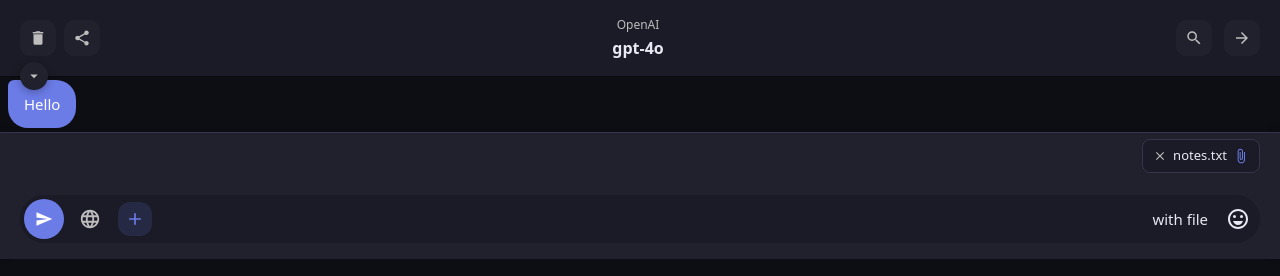
Test case: ChatPage — attaching files › sends the uploaded Attachment as the server returned it, and does not delete it afterwards
Earlier steps of the test are not shown.
Click the button named "Send message" at point(44, 218), box 24,198 -> 64,238
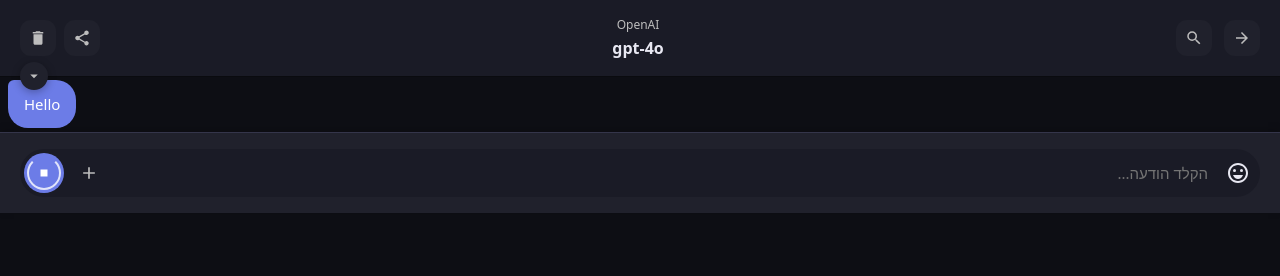
Expected: no elements with test id "draft-attachment" are shown
